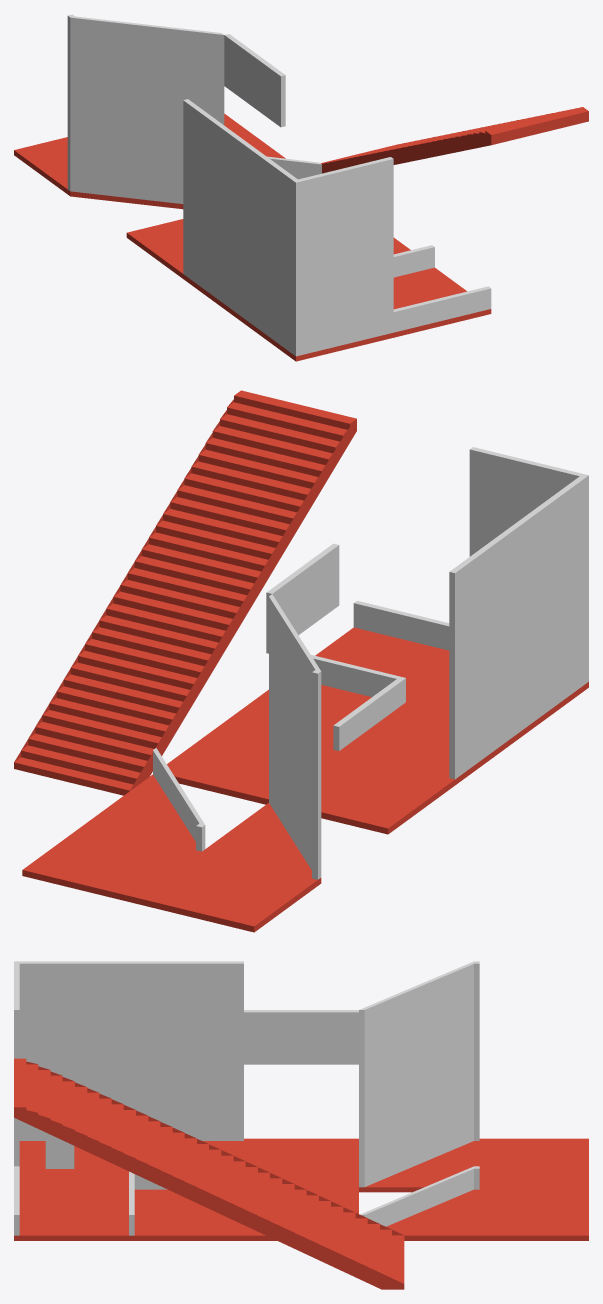
File: Tile.fbx
3 renders of one model, top to bottom at view 1: azimuth 30°, elevation 25°; view 2: azimuth 150°, elevation 25°; view 3: azimuth 270°, elevation 25°, orthographic. The views are drawn at different scales.
Parts seen in each view (by area): view 1: Cube, Cube.003, Cube.001, Cube.006, Cube.010, Cube.005, Cube.004, Cube.002, Cube.007, Cube.008, Cube.009; view 2: Cube.010, Cube, Cube.001, Cube.003, Cube.004, Cube.005, Cube.009, Cube.002, Cube.006, Cube.007, Cube.008; view 3: Cube.010, Cube.003, Cube.001, Cube, Cube.005, Cube.004, Cube.006, Cube.009, Cube.008, Cube.002, Cube.007, PlaterRef.
Boxes of the visible parts, x1,y1,x2,y2 form: Cube: (239, 140, 393, 361); Cube.003: (70, 16, 224, 209); Cube.001: (183, 99, 243, 319); Cube.006: (393, 267, 491, 337); Cube.010: (321, 107, 588, 173); Cube.005: (224, 34, 285, 127); Cube.004: (14, 14, 74, 195); Cube.002: (126, 219, 183, 278); Cube.007: (393, 237, 434, 277); Cube.008: (253, 143, 321, 179); Cube.009: (224, 113, 265, 146); Cube.010: (14, 390, 356, 795); Cube: (406, 447, 588, 736); Cube.001: (339, 523, 521, 785); Cube.003: (205, 594, 320, 874); Cube.004: (138, 670, 321, 932); Cube.005: (167, 543, 339, 804); Cube.009: (22, 821, 205, 903); Cube.002: (321, 751, 454, 834); Cube.006: (315, 600, 449, 701); Cube.007: (223, 655, 405, 750); Cube.008: (90, 748, 204, 846); Cube.010: (14, 1058, 404, 1289); Cube.003: (359, 961, 473, 1192); Cube.001: (129, 961, 243, 1160); Cube: (14, 961, 128, 1187); Cube.005: (244, 1010, 358, 1240); Cube.004: (474, 961, 588, 1187); Cube.006: (14, 1166, 128, 1240); Cube.009: (474, 1166, 588, 1240); Cube.008: (360, 1166, 473, 1240); Cube.002: (244, 1138, 358, 1187); Cube.007: (129, 1171, 243, 1240); PlaterRef: (45, 1132, 74, 1168).
Bounding box in the file's own units: 1200 × 700 × 2000.
